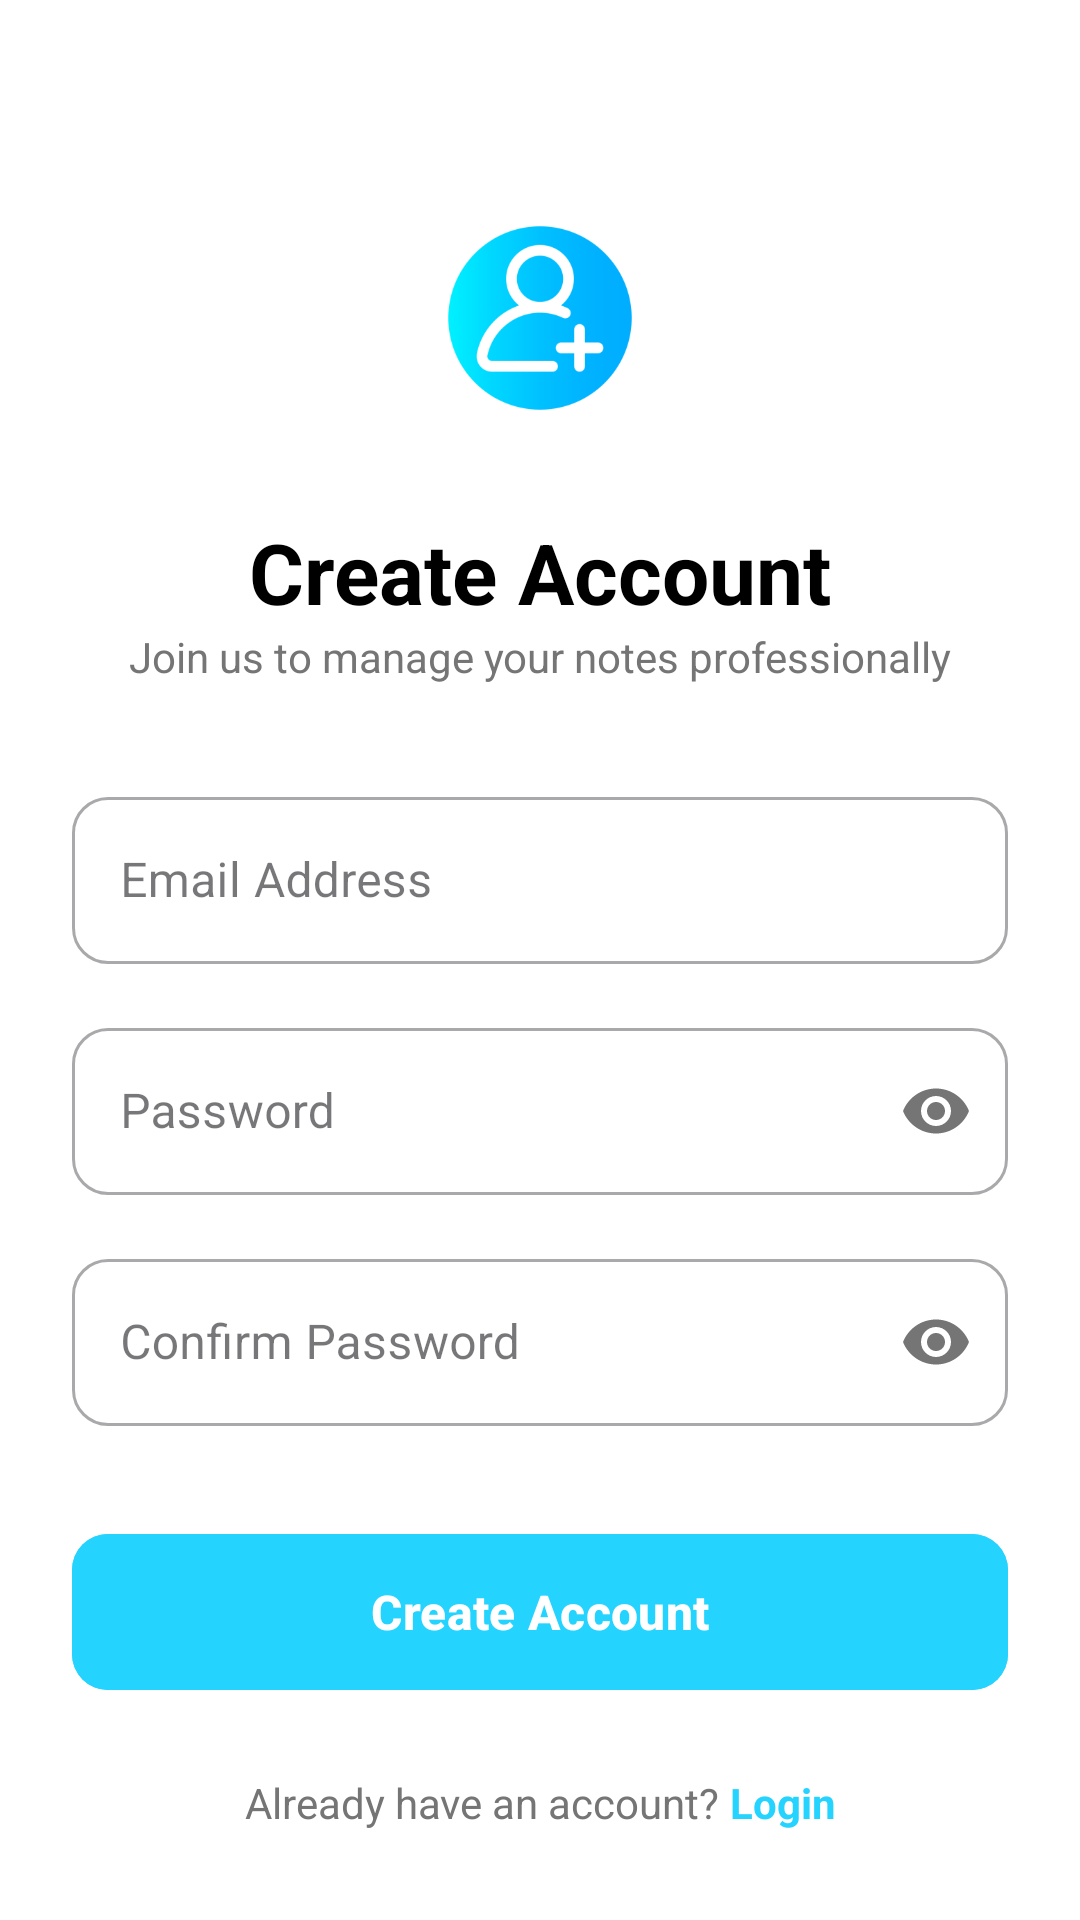

Icon click points for this 1080w x 1920h phone screenshot, format (x,y):
createcontact: (540,318)
